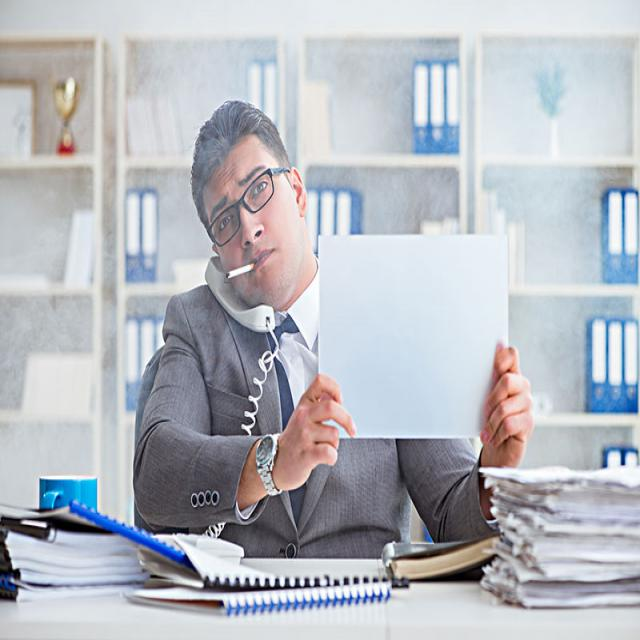smoking: (224, 262, 256, 282)
